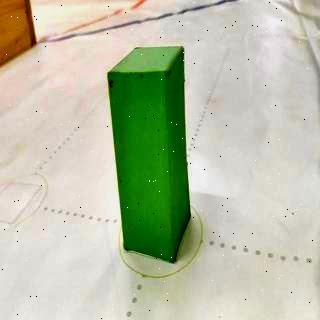greenbox: (104, 44, 192, 266)
